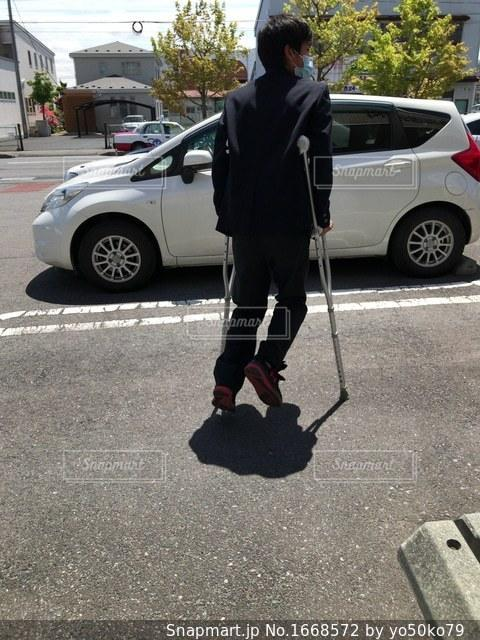crutches: (212, 19, 348, 413)
